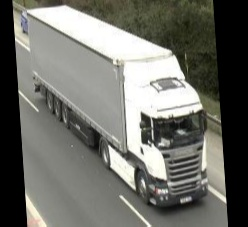truck: (29, 2, 211, 216)
